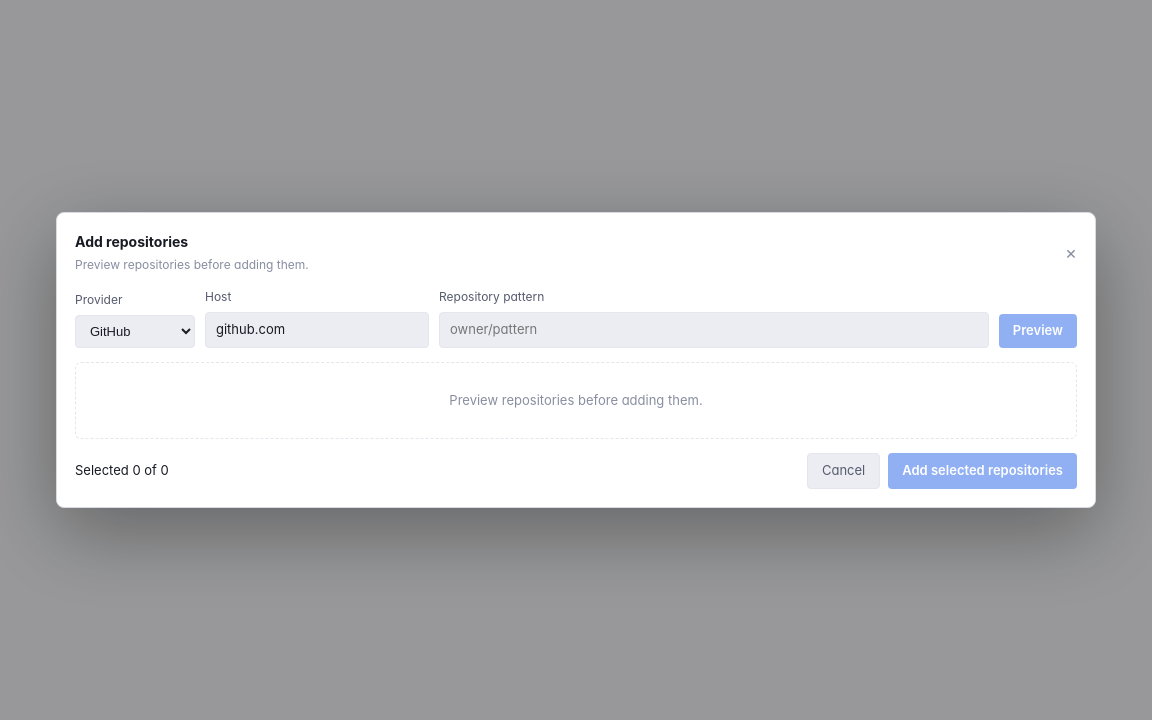
Test: RepoImportModal › clears stale rows on failed preview
Type "acme/*" into the field labelled "Repository pattern".
click(714, 330); type("acme/*")  # box left=439, top=312, right=989, bottom=348
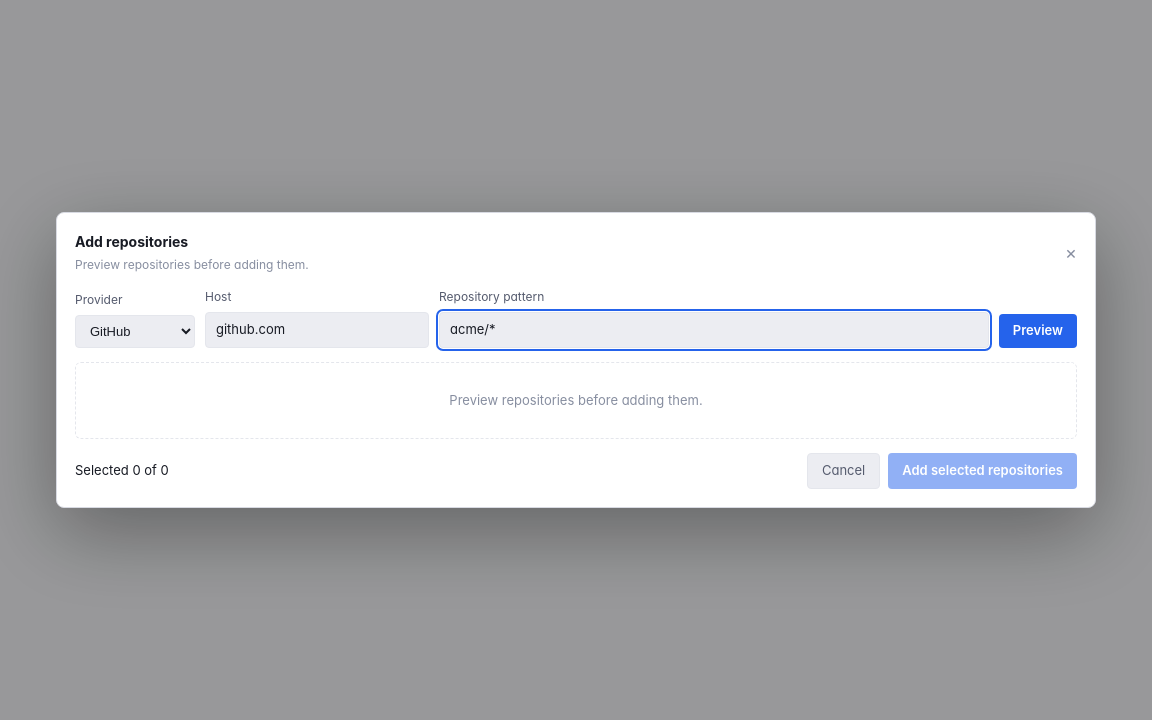
Click the button "Preview".
click(1038, 331)  # box left=999, top=314, right=1077, bottom=348
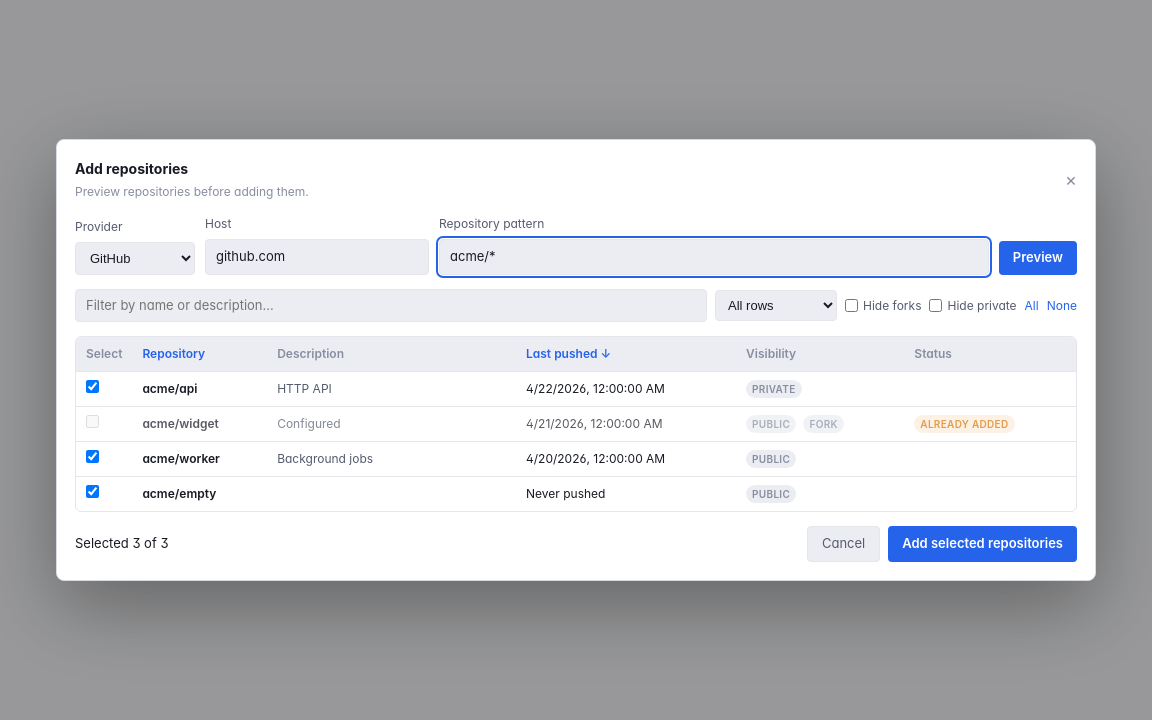
Now the text "acme/api" is shown, box left=132, top=372, right=267, bottom=407
Replace the text in the field labelled "Repository pattern" with "acme/worker*" at {"x": 714, "y": 257}, box left=439, top=239, right=989, bottom=275
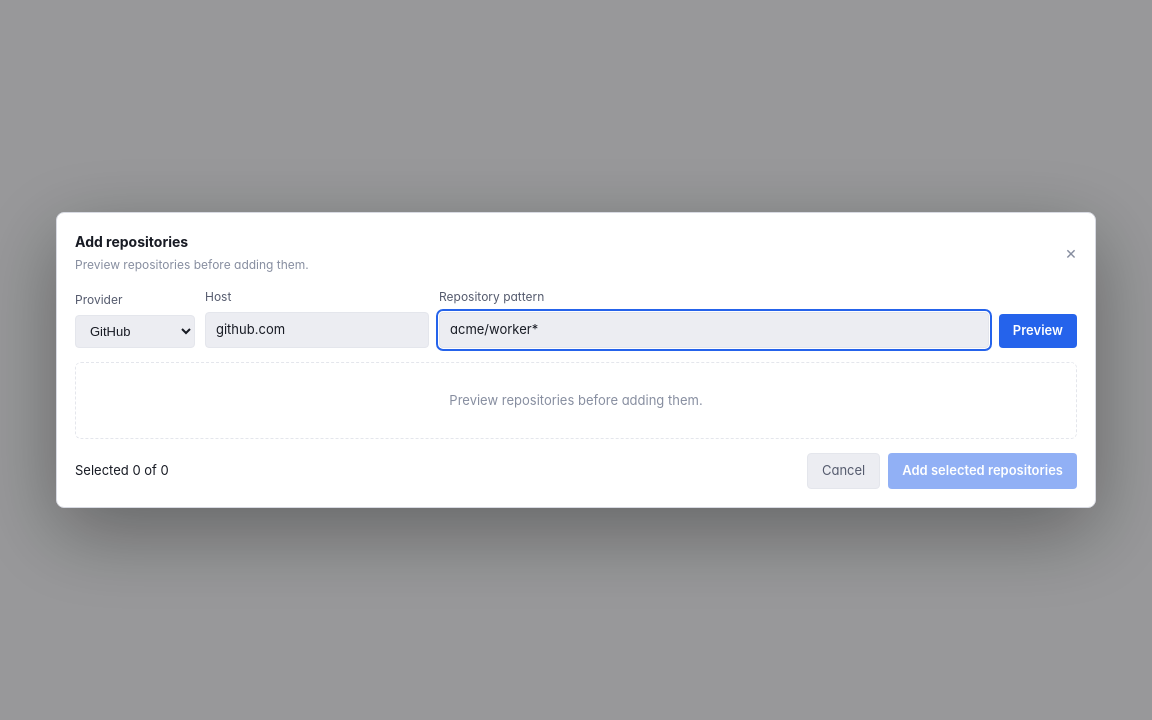
Click the button "Preview".
click(1038, 331)  # box left=999, top=314, right=1077, bottom=348
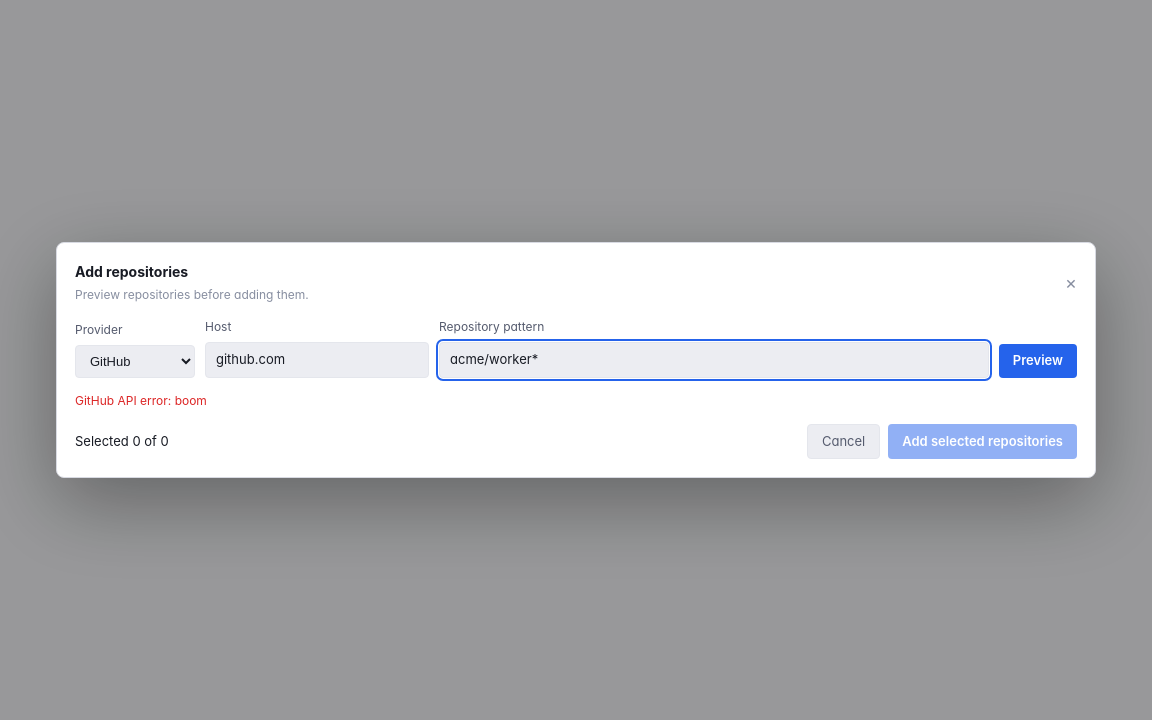
Expected: the text "acme/api" is not shown
Now the message reads "GitHub API error: boom", box left=75, top=392, right=207, bottom=408
